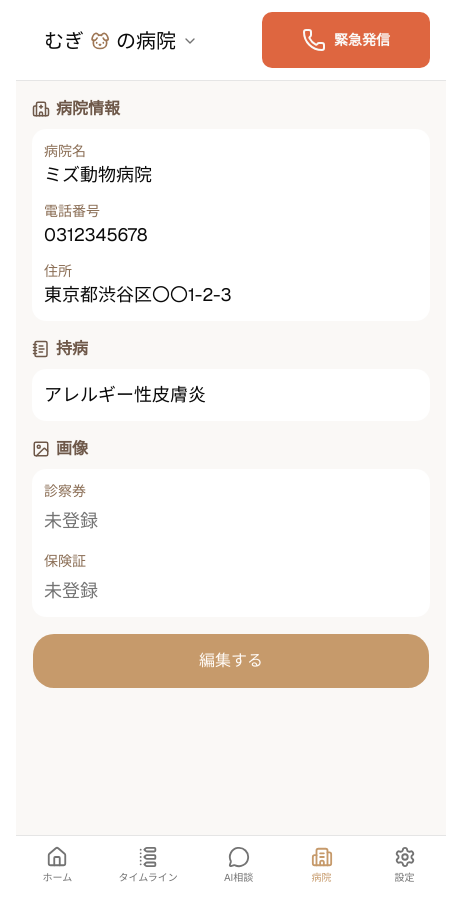
it: HospitalPage › 初期表示（モック） › UT-F-303: USE_MOCK_DATA=trueで初期表示するとMOCK_PETの内容がフォームにresetされる
The image size is (463, 899).
Expected: the text "ミズ動物病院" is shown, [44,163,152,186]
// 編集モードに切り替えてフォームにreset済みの値が入っていることを確認
Step 1. Click the button "編集する" → (231, 661), box [32,633,430,689]
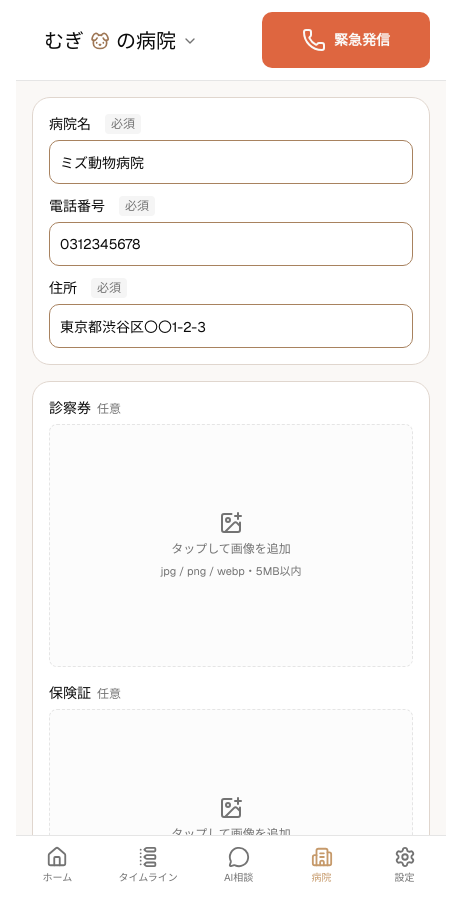
Now the field labelled "病院名 必須" holds "ミズ動物病院", box [49,140,413,184]
